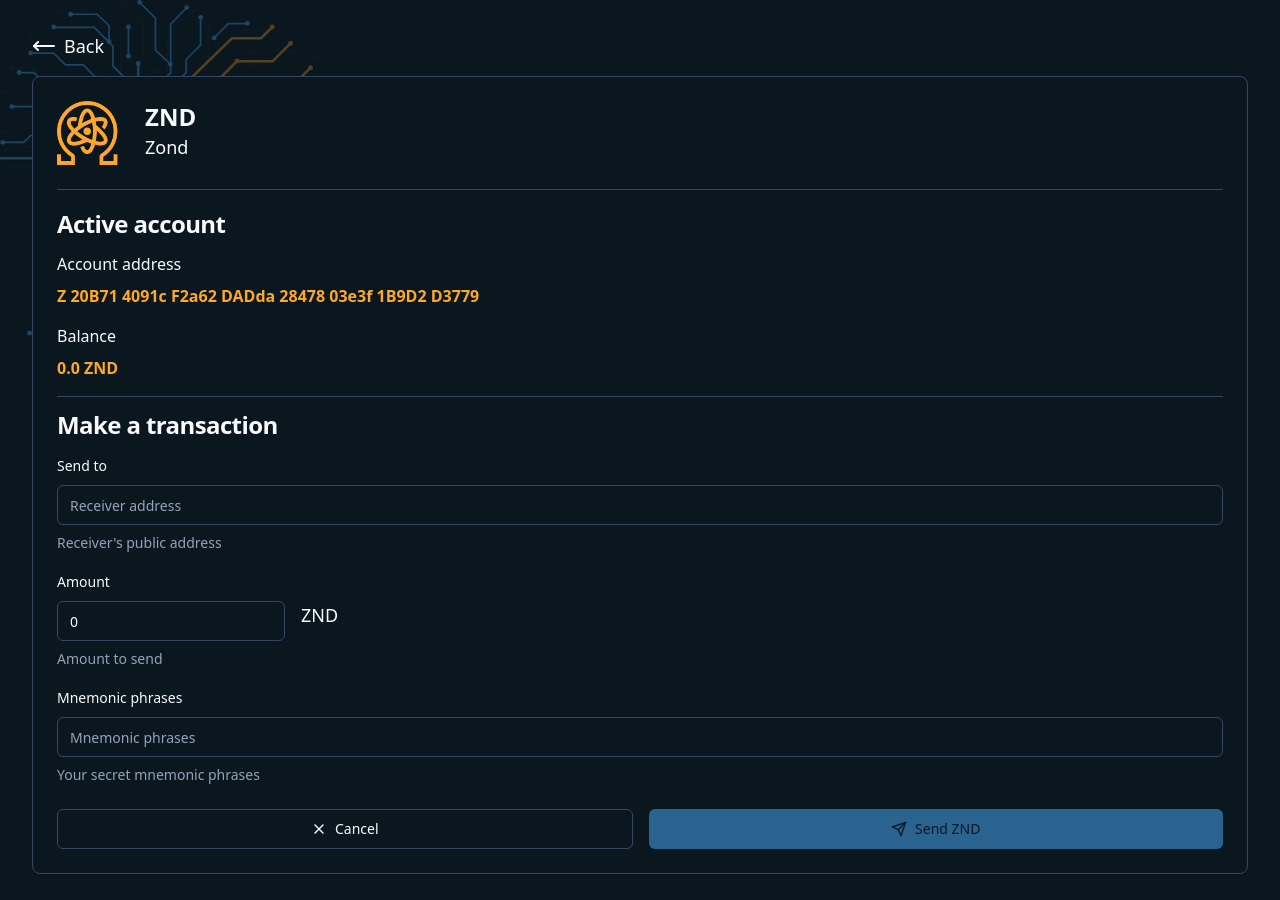
it: TokenTransfer › should display the error message if amount is not valid
This screenshot has width=1280, height=900.
Type "-2.5" into the number field named "Amount" at (171, 621), box [57,601,285,641]
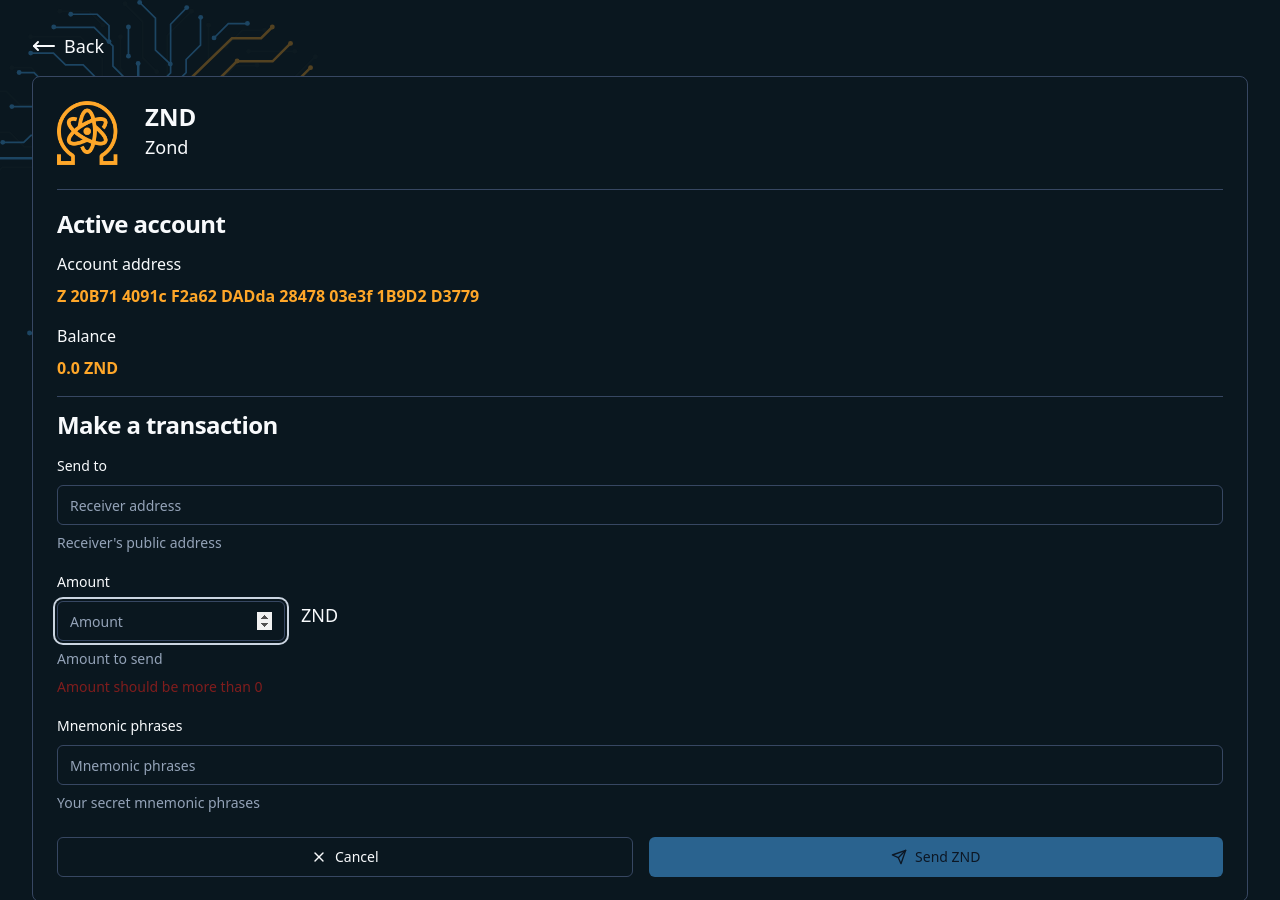
Check: the text "Amount should be more than 0" is shown, box [57,677,285,697]
